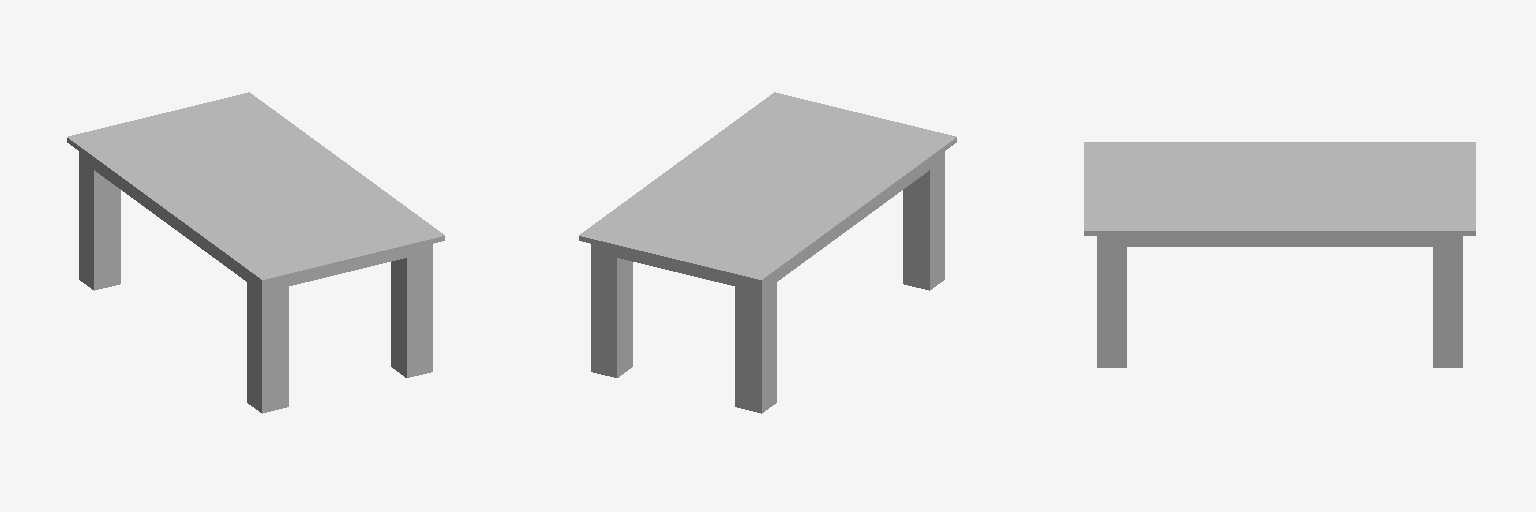
File: mesita.obj
3 views of the same model, side by side, from view 1: azimuth 30°, elevation 25°; view 2: azimuth 150°, elevation 25°; view 3: azimuth 270°, elevation 25° (orthographic).
Visible parts, largest first — view 1: Plane; view 2: Plane; view 3: Plane.
Part boxes in pixels (bbox=[...]): Plane: bbox=[67, 92, 444, 413]; Plane: bbox=[579, 92, 956, 413]; Plane: bbox=[1084, 142, 1475, 367].
Bounding box in the file's own units: 4.38 × 3.19 × 8.12.